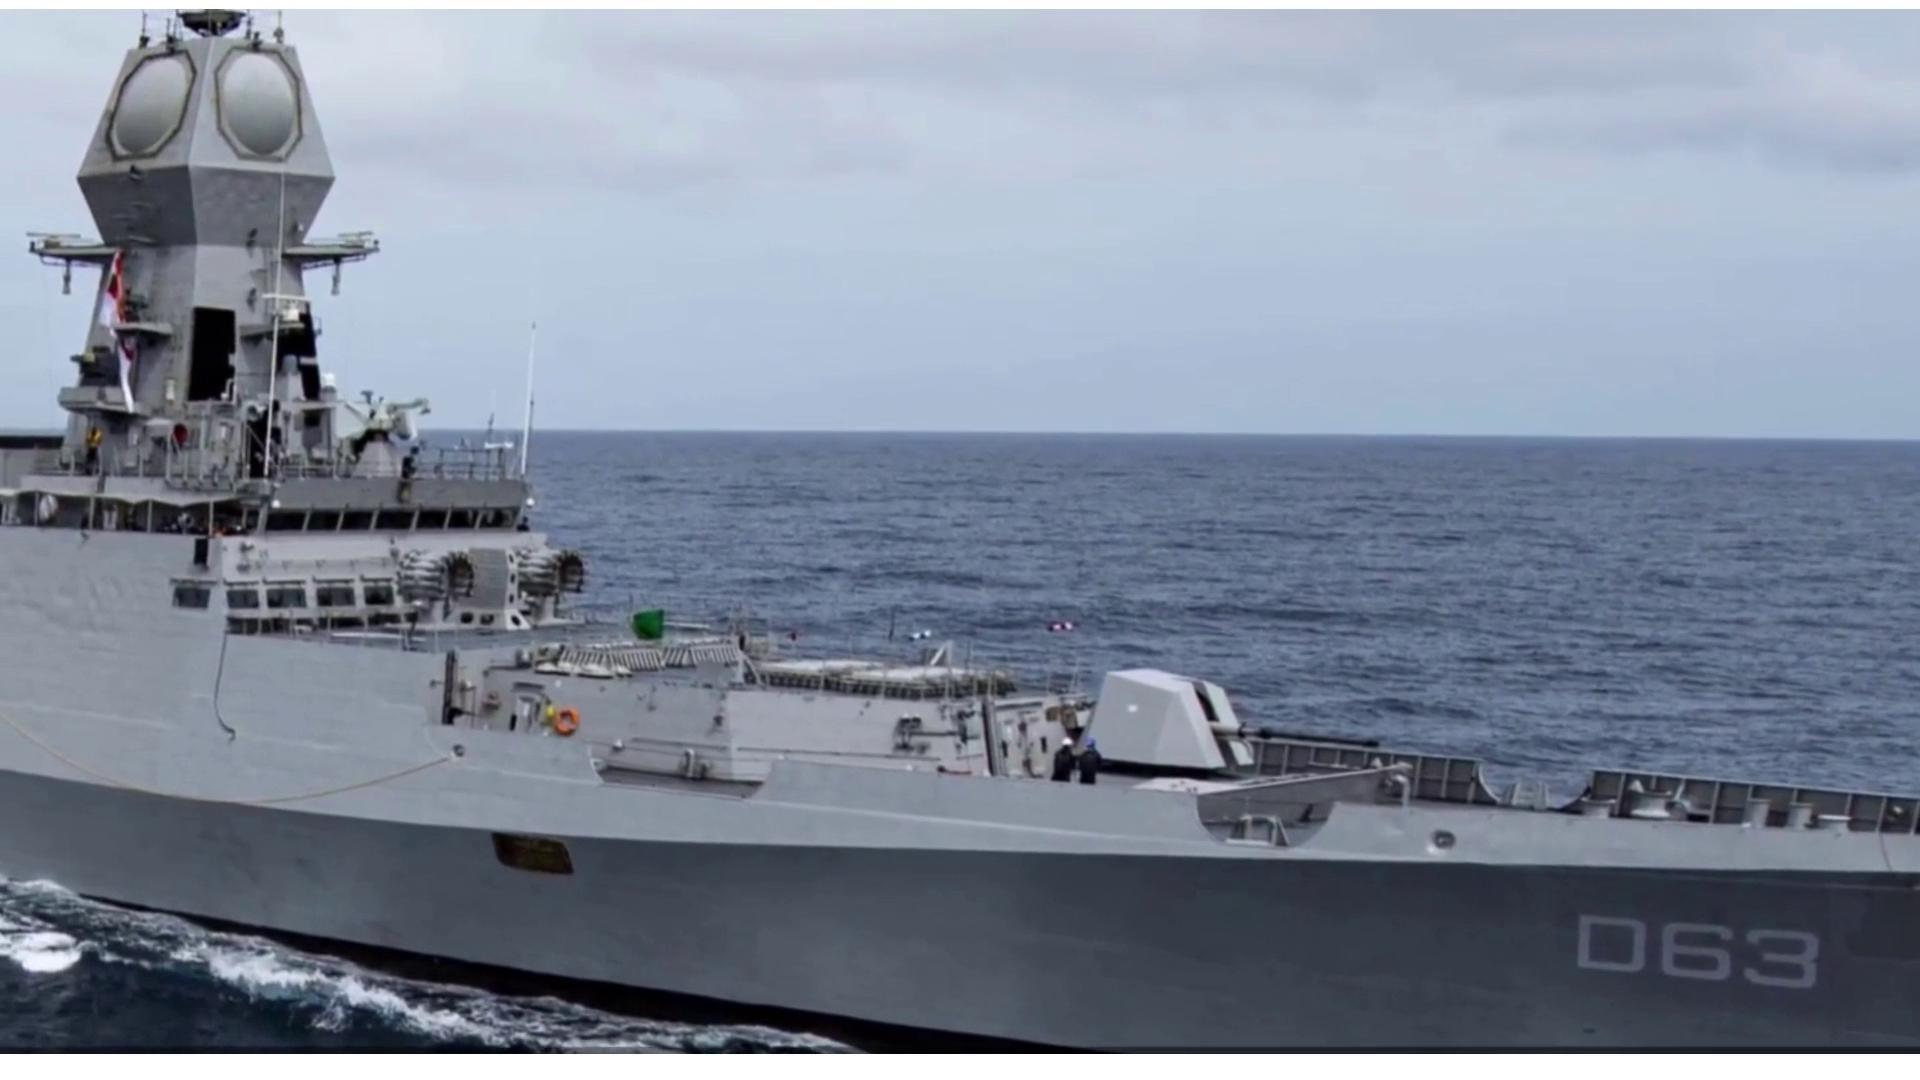OCR: (1564, 905, 1838, 996)
